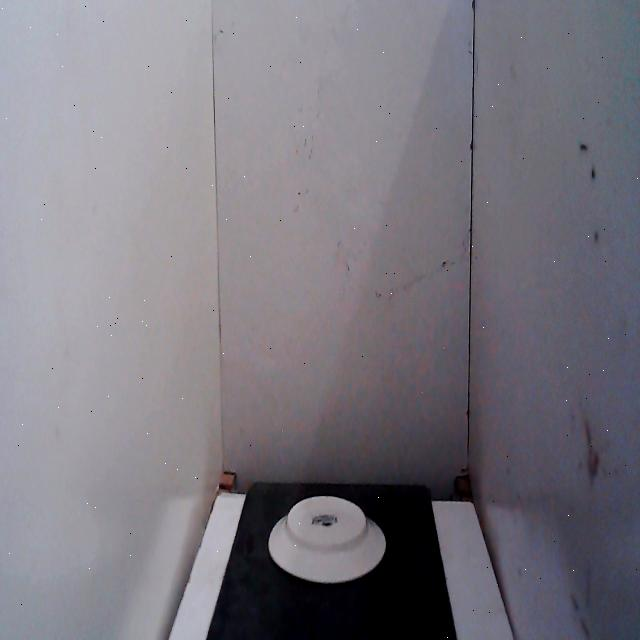vidro: (261, 487, 391, 595)
